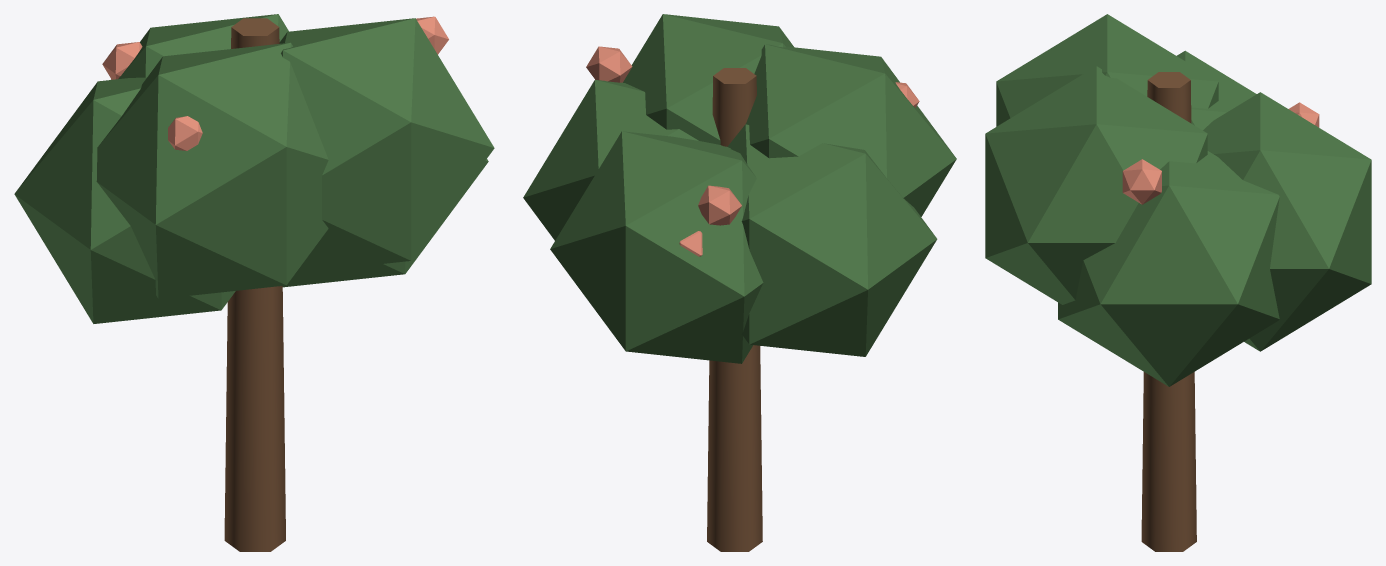
Rendered from crop-peach-tree-stage-4-fruiting.source.glb.
3 renders of one model, left to right at view 1: azimuth 30°, elevation 25°; view 2: azimuth 150°, elevation 25°; view 3: azimuth 270°, elevation 25°, orthographic. The views are drawn at different scales.
Parts seen in each view (by area): view 1: canopy-2, canopy-4, canopy-5, trunk, canopy-3, canopy-1, fruit-8, fruit-3, fruit-4; view 2: canopy-3, canopy-5, canopy-2, trunk, canopy-4, canopy-1, fruit-3, fruit-4; view 3: canopy-1, canopy-4, canopy-3, trunk, canopy-2, canopy-5, fruit-4.
Boxes of the visible parts, bbox=[...] form: canopy-2: bbox=[96, 42, 328, 298]; canopy-4: bbox=[279, 18, 494, 273]; canopy-5: bbox=[14, 77, 235, 323]; trunk: bbox=[224, 18, 285, 551]; canopy-3: bbox=[118, 14, 288, 78]; canopy-1: bbox=[282, 159, 488, 287]; fruit-8: bbox=[168, 116, 202, 150]; fruit-3: bbox=[102, 42, 142, 79]; fruit-4: bbox=[416, 16, 448, 54]; canopy-3: bbox=[550, 131, 763, 363]; canopy-5: bbox=[731, 124, 937, 356]; canopy-2: bbox=[727, 44, 956, 216]; trunk: bbox=[707, 68, 762, 551]; canopy-4: bbox=[623, 14, 793, 144]; canopy-1: bbox=[523, 80, 698, 240]; fruit-3: bbox=[698, 185, 741, 225]; fruit-4: bbox=[586, 46, 632, 82]; canopy-1: bbox=[1058, 151, 1279, 386]; canopy-4: bbox=[985, 66, 1207, 304]; canopy-3: bbox=[1203, 92, 1371, 351]; trunk: bbox=[1141, 72, 1196, 551]; canopy-2: bbox=[996, 14, 1218, 126]; canopy-5: bbox=[1177, 50, 1256, 130]; fruit-4: bbox=[1122, 159, 1161, 204].
Bounding box in the file's own units: 2.1 × 2.7 × 2.01.
